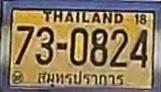0: (69, 27, 87, 65)
2: (110, 28, 128, 66)
3: (35, 26, 53, 64)
4: (129, 28, 147, 67)
7: (16, 25, 34, 64)
8: (90, 27, 107, 65)
SPK: (36, 68, 125, 90)
